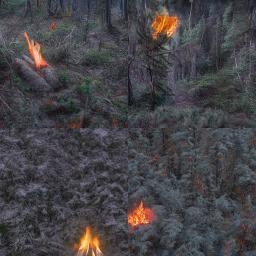Small fire: (147, 6, 184, 38), (132, 203, 161, 228), (76, 233, 111, 252), (28, 40, 48, 63)
